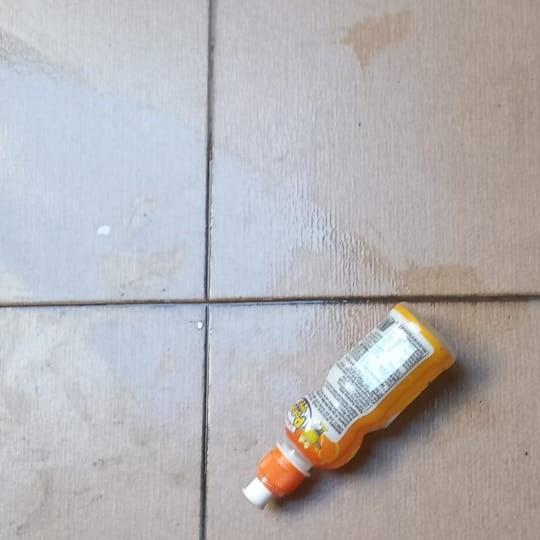Plastik: (242, 302, 457, 510)
